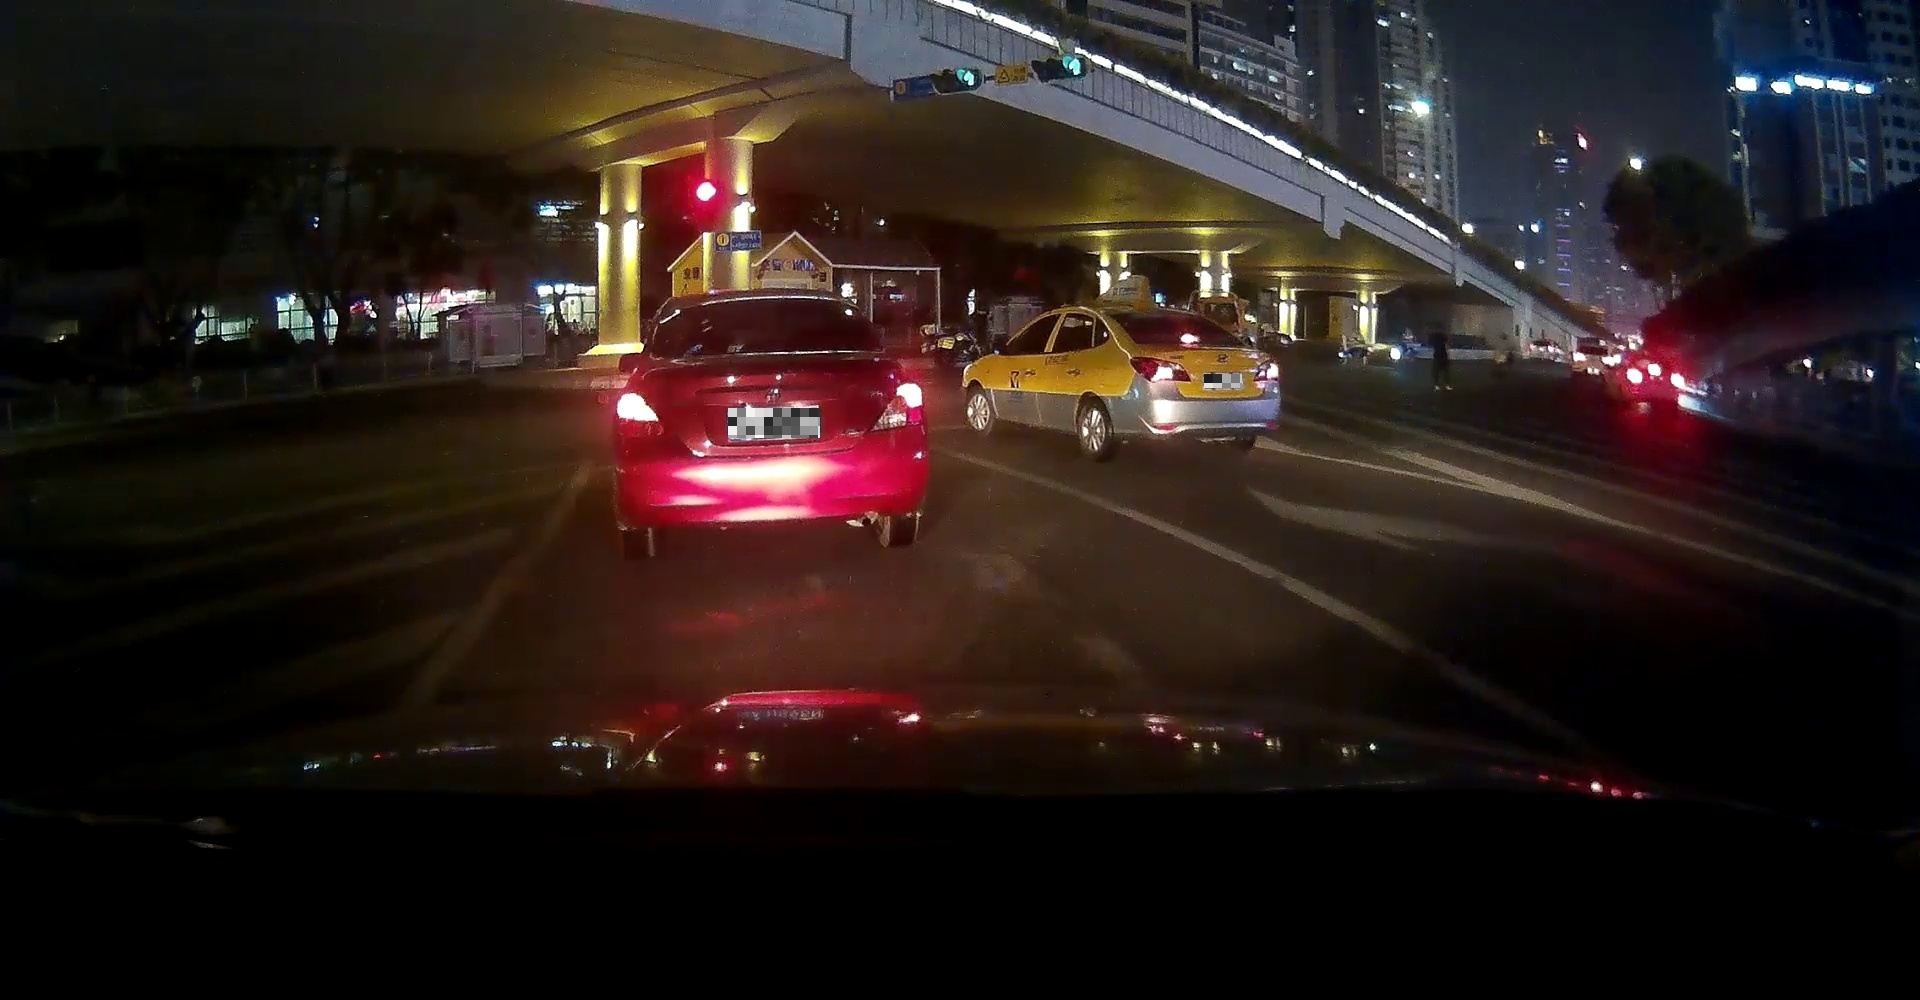L_light: (612, 391, 665, 438), (1129, 357, 1190, 383)
R_light: (869, 381, 923, 431), (1253, 358, 1280, 381)
T_light: (745, 297, 792, 307), (1178, 334, 1200, 341)
night-brake: (1100, 303, 1283, 459)
night-no: (610, 289, 930, 556)
plate_1: (728, 409, 820, 438)
plate_2: (1204, 374, 1242, 388)
